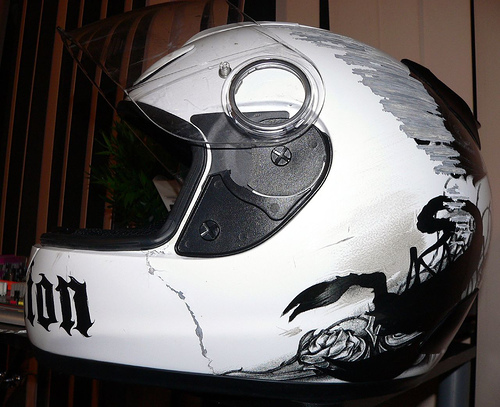helmet: (88, 31, 479, 375)
